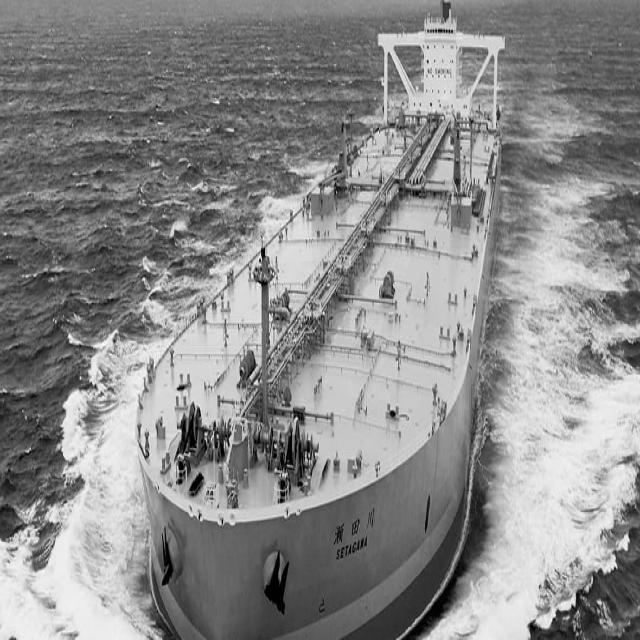Tanker: (126, 2, 510, 640)
